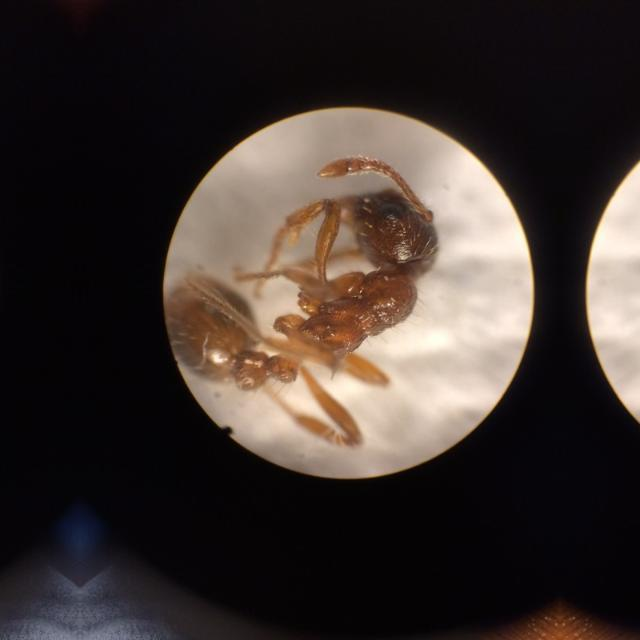Myrmica: (188, 160, 444, 418)
